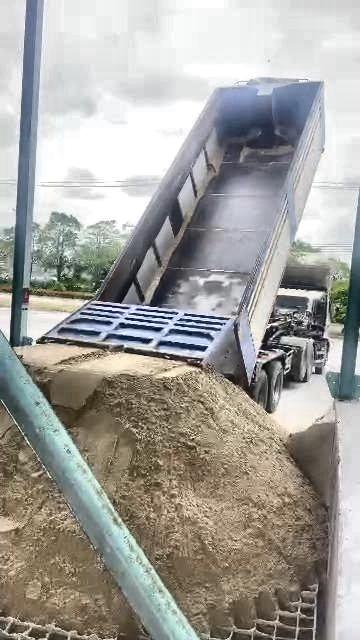sand: (22, 345, 324, 631), (0, 409, 138, 635), (287, 410, 338, 509)
